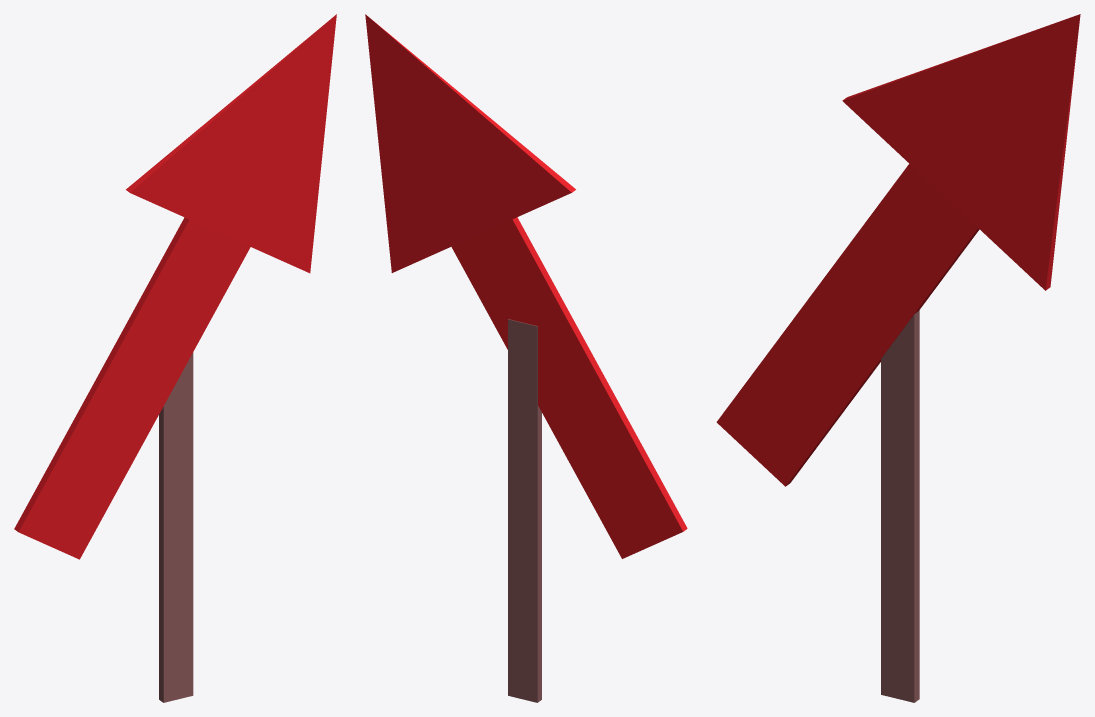
Rendered from pointer2.obj.
The picture shows the model from 3 angles, left to right: view 1: azimuth 30°, elevation 25°; view 2: azimuth 150°, elevation 25°; view 3: azimuth 330°, elevation 25°; orthographic projection. The views are drawn at different scales.
Visible parts, largest first — view 1: Object.3, Object.2, Object.1; view 2: Object.2, Object.3, Object.1; view 3: Object.2, Object.3, Object.1.
Boxes of the visible parts, box(x1,y1,x2,y2) form: Object.3: box(14, 217, 250, 559); Object.2: box(126, 14, 336, 273); Object.1: box(159, 352, 193, 702); Object.2: box(365, 14, 575, 272); Object.3: box(451, 217, 687, 558); Object.1: box(508, 319, 541, 702); Object.2: box(842, 14, 1080, 290); Object.3: box(716, 163, 979, 486); Object.1: box(881, 310, 919, 702).
Size of the model in its own units: 41.69 by 80.16 by 1.1.
